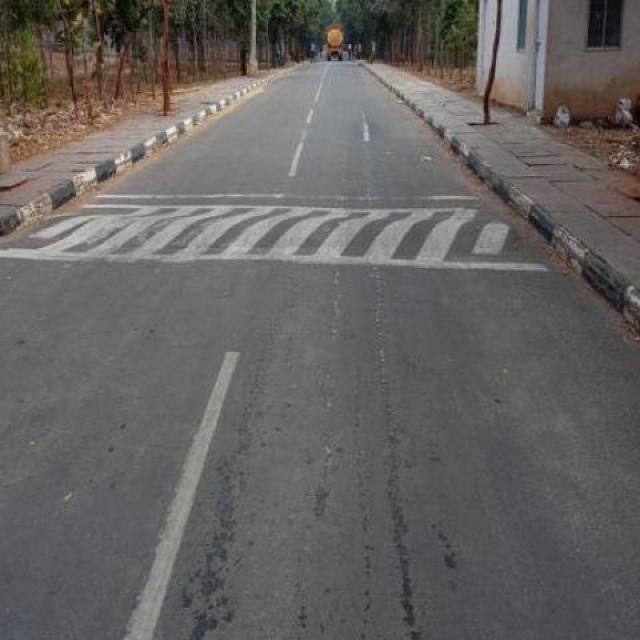Speed Bump: (2, 202, 526, 269)
